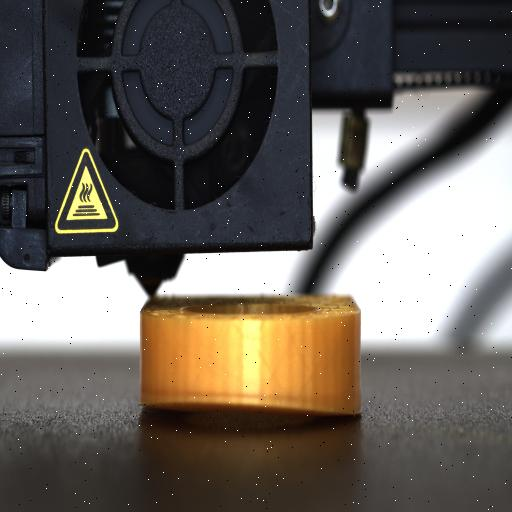warp: (150, 391, 356, 417)
